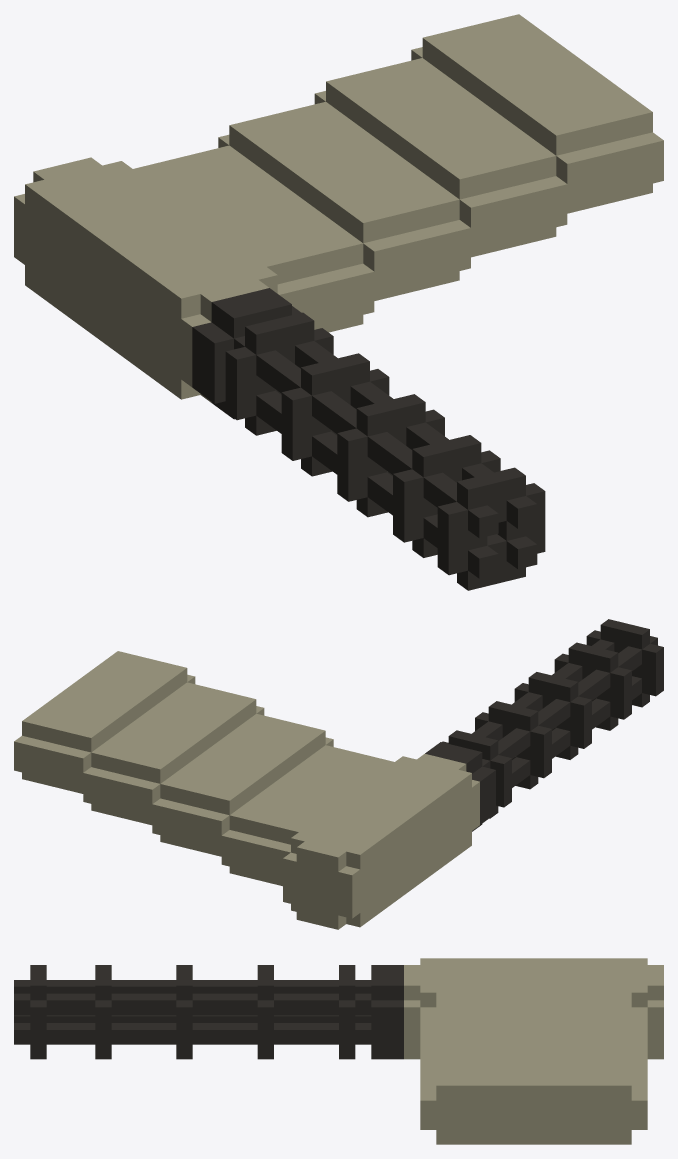
The model's file is Boss-0.obj.
3 views of the same model, one above another, from view 1: azimuth 30°, elevation 25°; view 2: azimuth 150°, elevation 25°; view 3: azimuth 270°, elevation 25° (orthographic). The views are drawn at different scales.
Bounding box in the file's own units: 2.5 × 0.8 × 4.
Materials: 1 (1 with a texture image).
